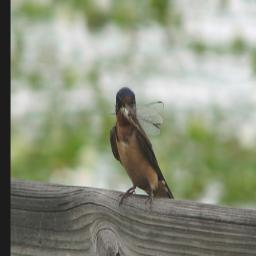Swallow: (110, 86, 175, 216)
